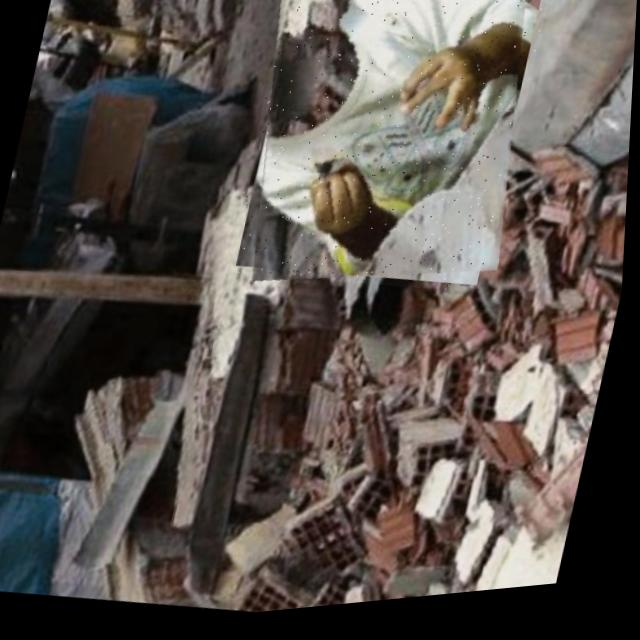Person in Rubble: (226, 0, 553, 321)
